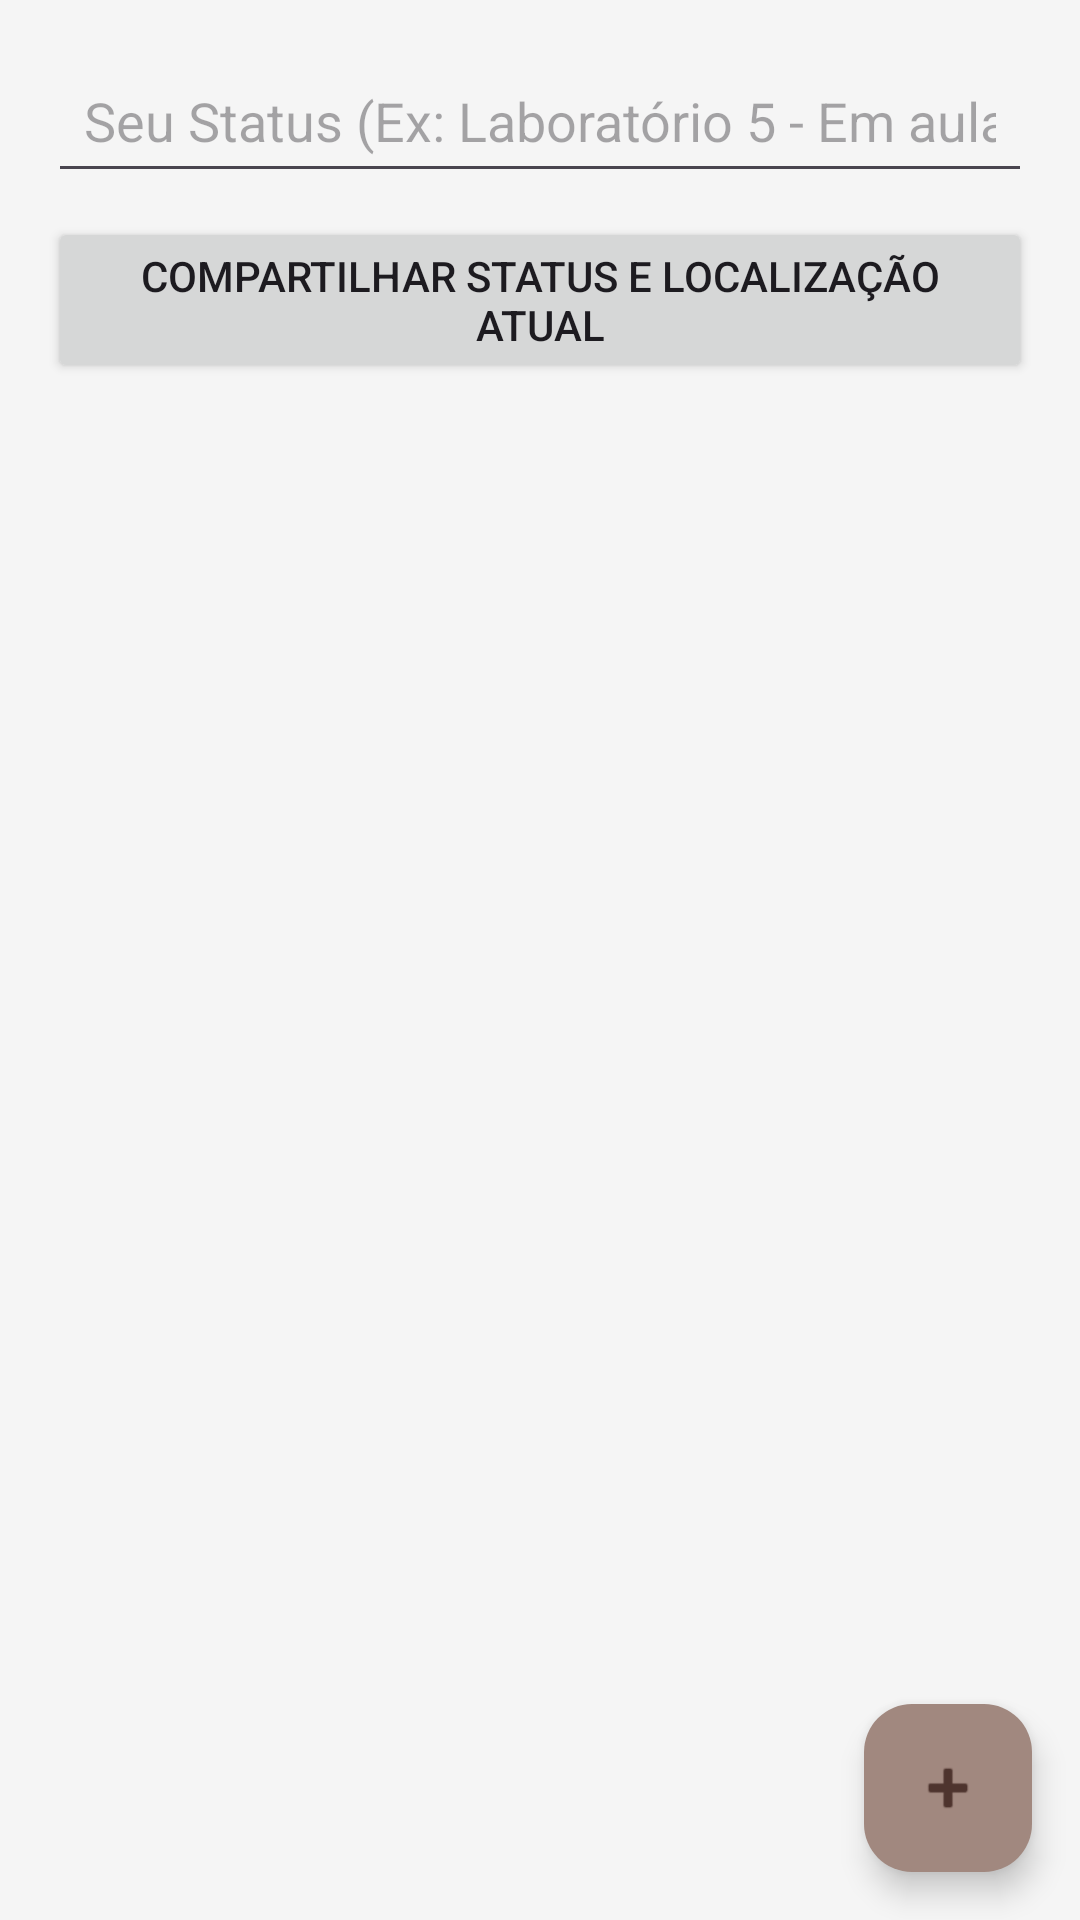

Where icons sit on this 1080px x 1920px app screen, as (x1, y1, x2, y2):
Adicionar Servidor: (864, 1704, 1032, 1872)
